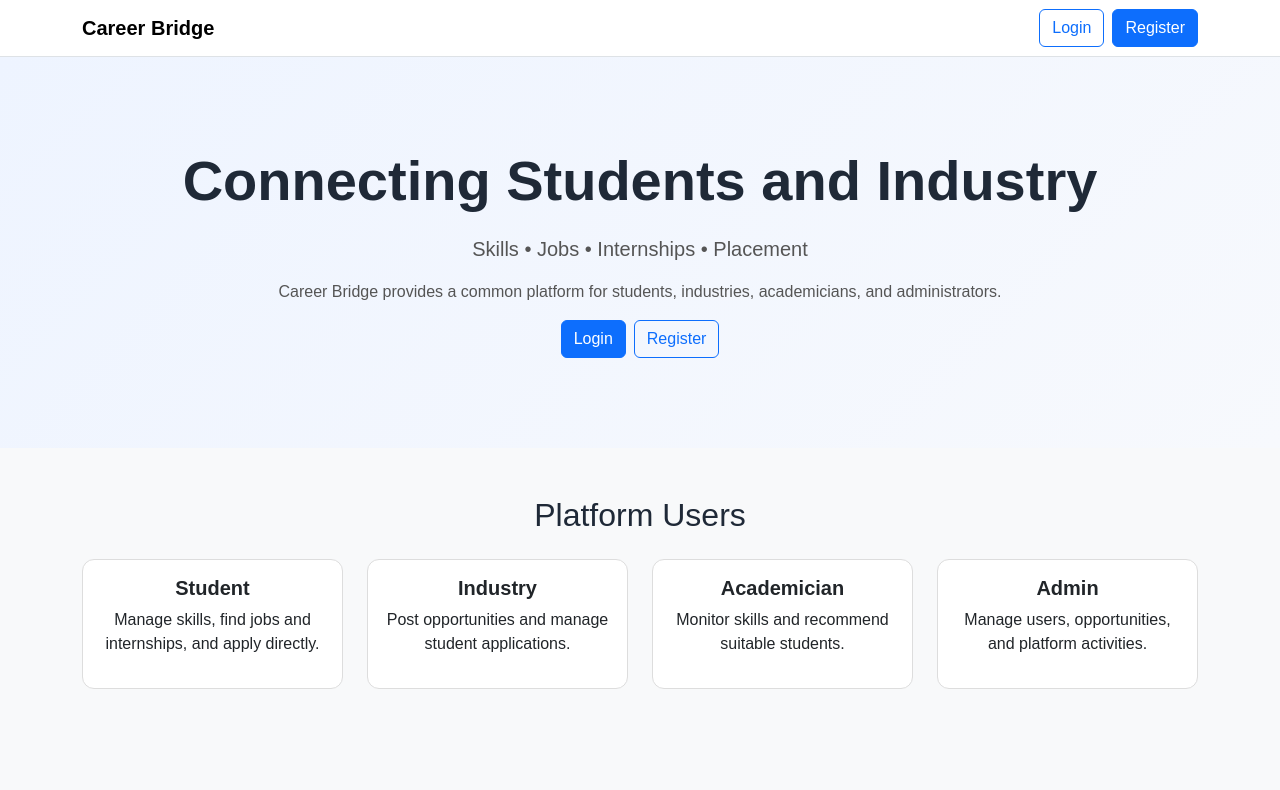
Test: login flow against the backend response shape › student sees student cards and the token is stored
This screenshot has width=1280, height=790.
Click the 1st button "Login" at [1072, 28], box x1=1039 y1=9 x2=1104 y2=47
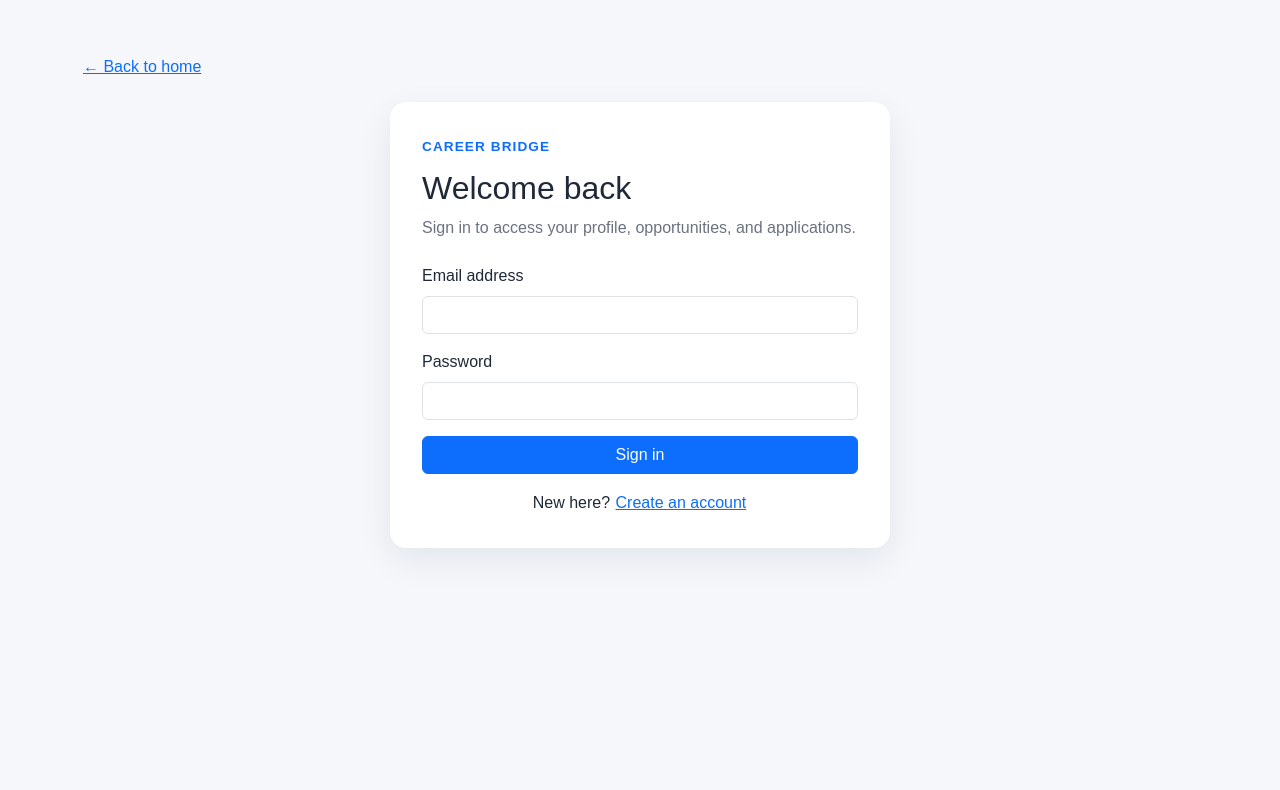
Type "user@example.com" into the field labelled "Email address" at [640, 315], box x1=422 y1=296 x2=858 y2=334
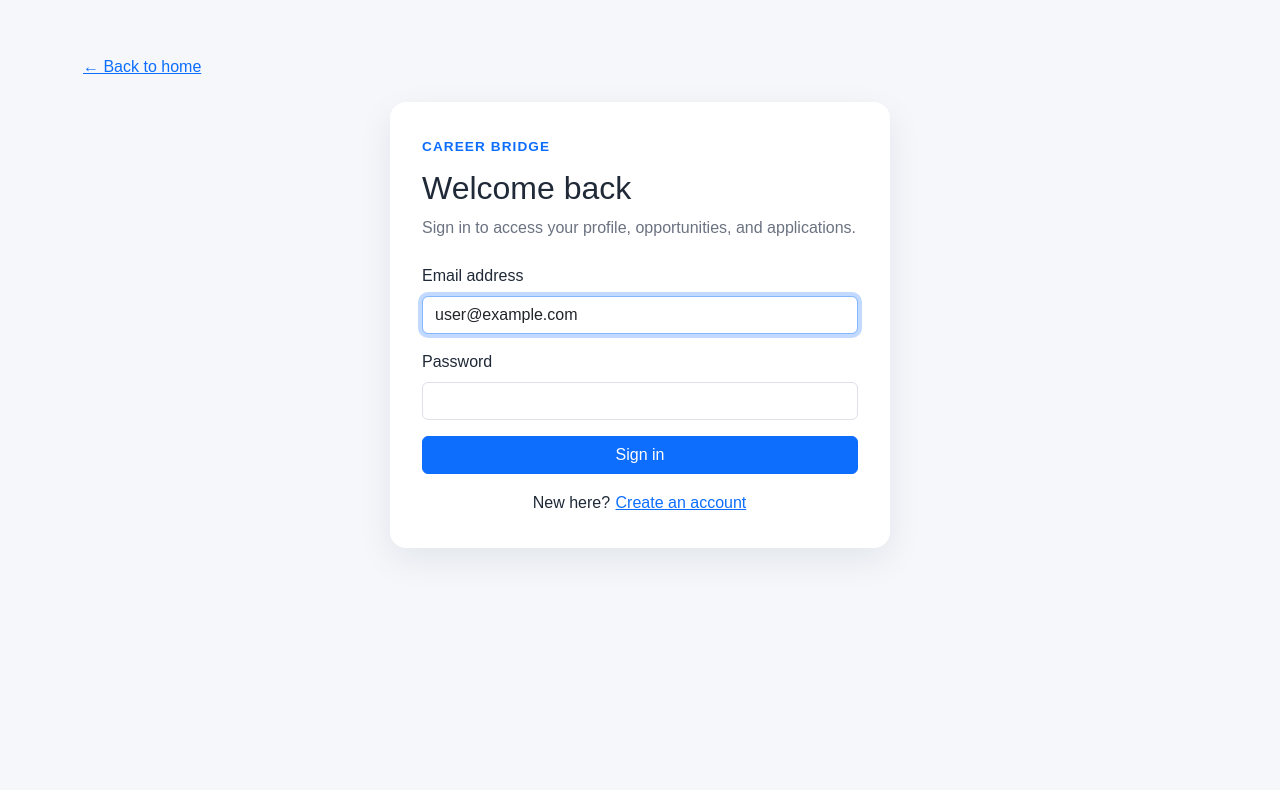
Type "secret1" into the password field labelled "Password" at [640, 401], box x1=422 y1=382 x2=858 y2=420
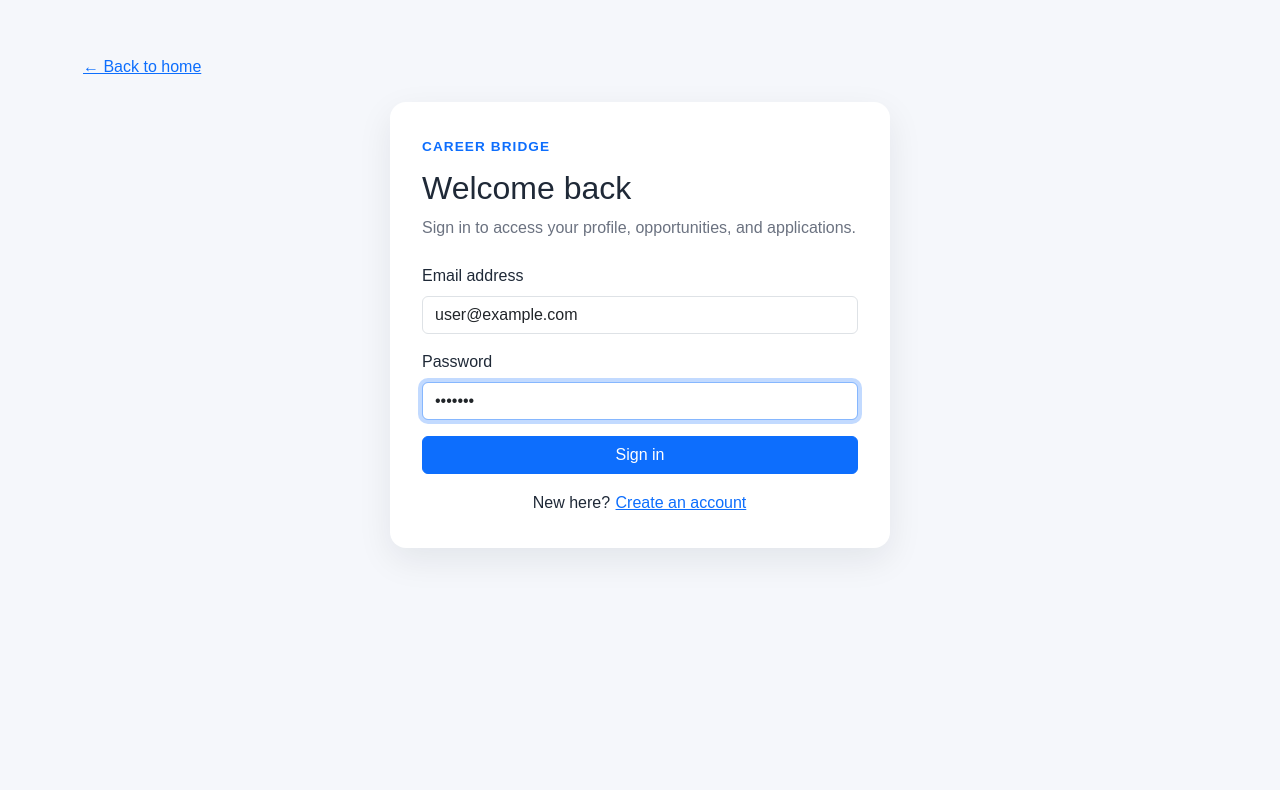
Click the button "Sign in" at [640, 455], box x1=422 y1=436 x2=858 y2=474
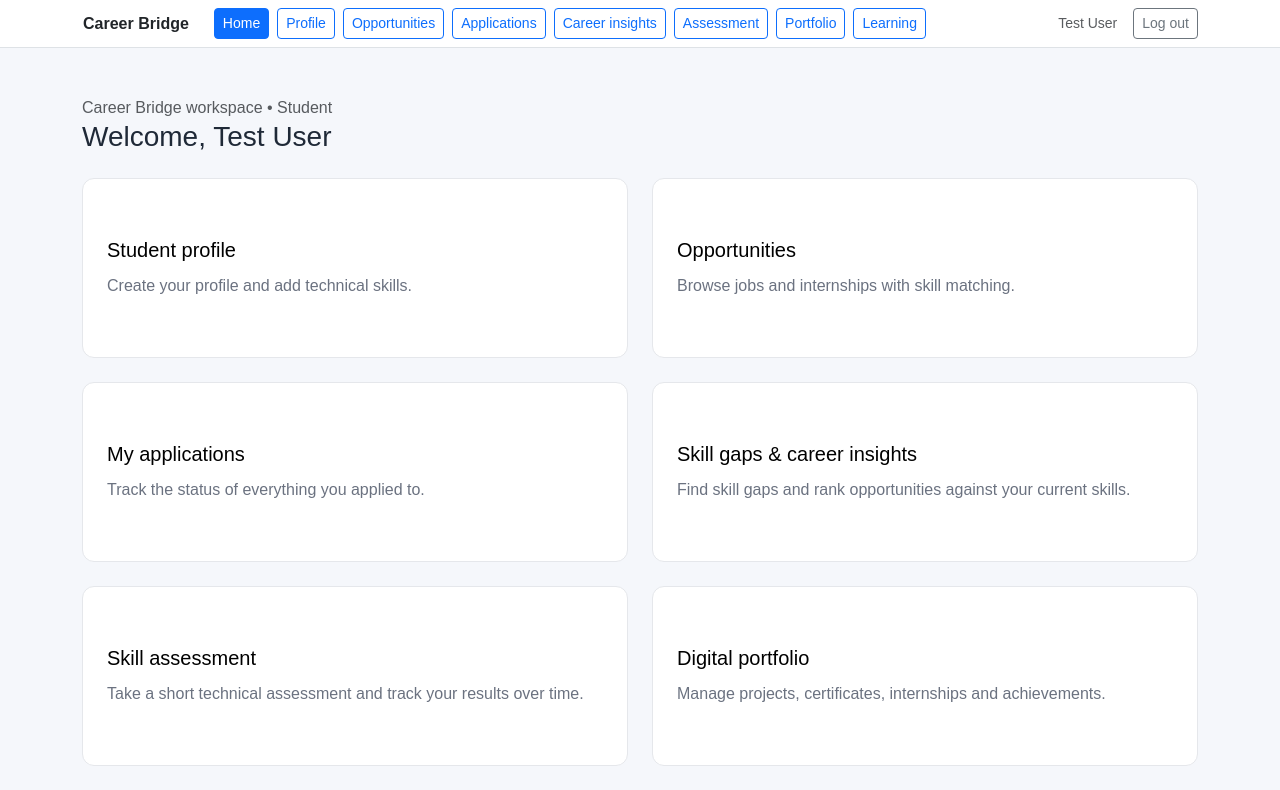
Expected: the heading "Welcome, Test User" is shown, x1=82 y1=121 x2=332 y2=152
Expected: the button "Student profile" is shown, x1=82 y1=178 x2=628 y2=358
Expected: the button "My applications" is shown, x1=82 y1=382 x2=628 y2=562
